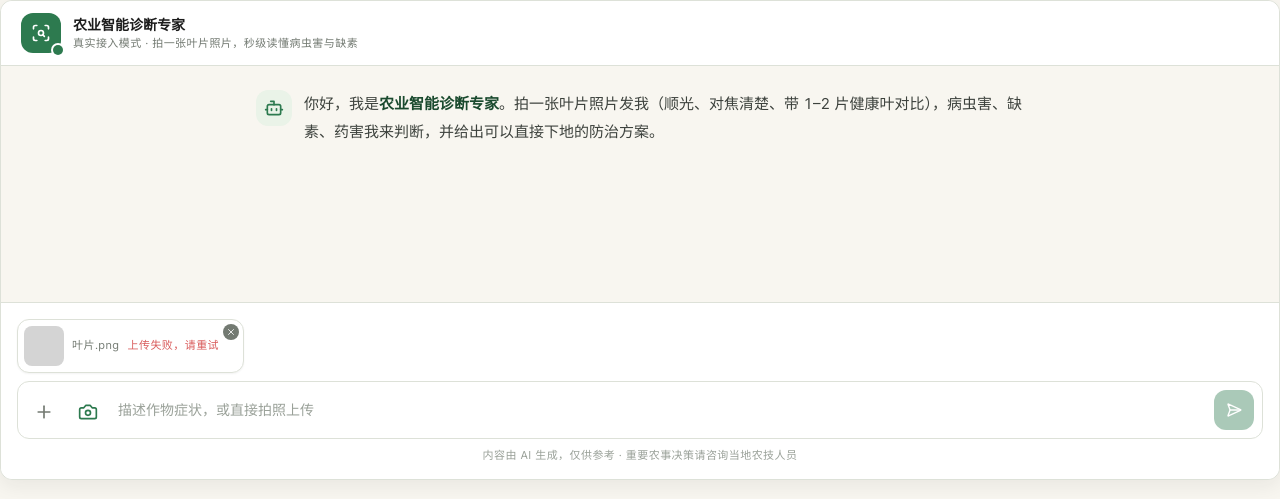
ChatInterface：附件失败状态 › 失败附件重试成功后才允许携带文件 key 发送
Earlier steps of the test are not shown.
Later steps or results of the test are not shown.
Click the button with aria-label "重试上传 叶片.png" at (173, 346), box x1=128 y1=337 x2=219 y2=354
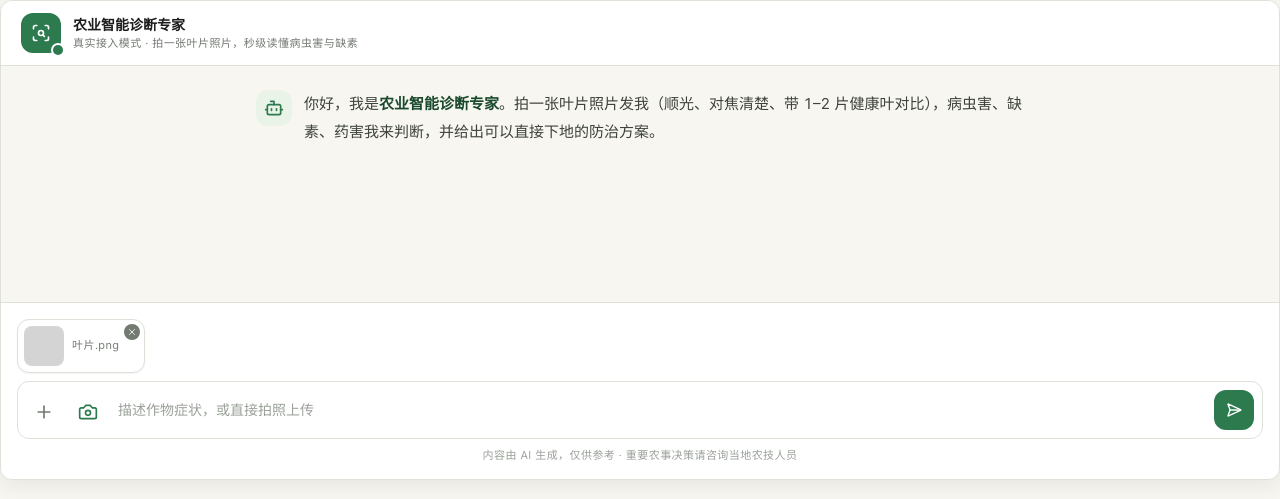
Check: the button "上传失败，请重试" is gone
